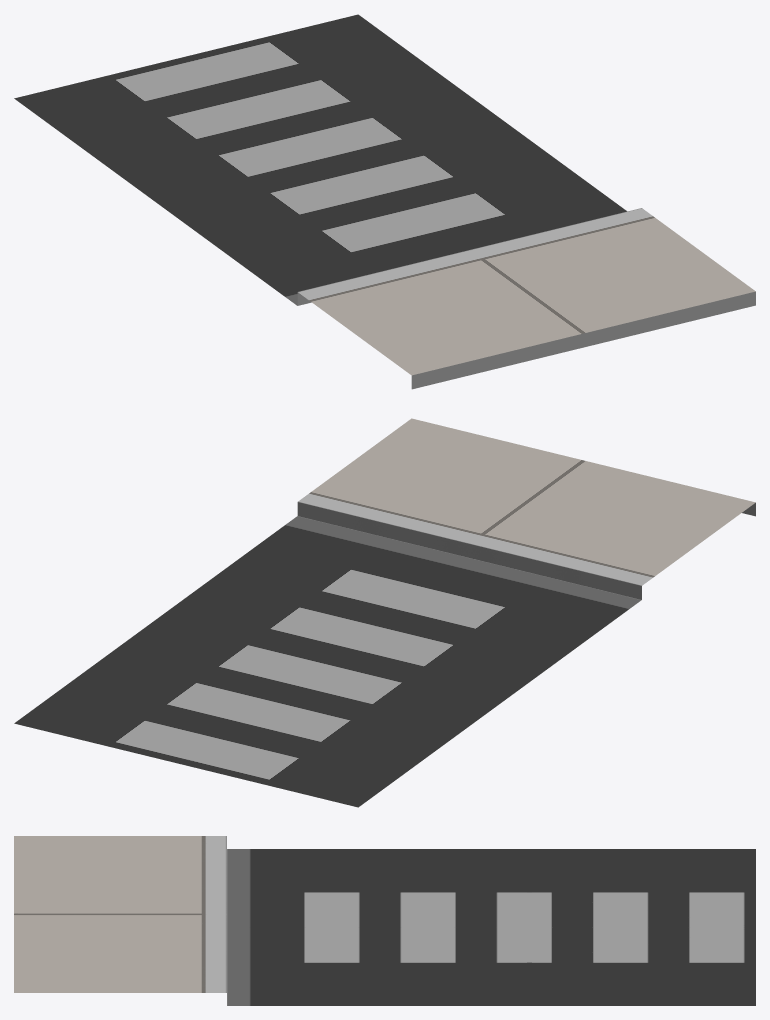
File: road_crossing_mesh.fbx
3 renders of one model, top to bottom at view 1: azimuth 30°, elevation 25°; view 2: azimuth 150°, elevation 25°; view 3: azimuth 270°, elevation 25°, orthographic. The views are drawn at different scales.
Visible parts, largest first — view 1: road_crossing_mesh1; view 2: road_crossing_mesh1; view 3: road_crossing_mesh1.
Boxes of the visible parts, <box> form: road_crossing_mesh1: <box>14,14,755,389</box>; road_crossing_mesh1: <box>14,418,755,807</box>; road_crossing_mesh1: <box>14,836,755,1005</box>.
Size of the model in its own units: 0.05 by 0.00195 by 0.1.
1 material, 1 textured.
